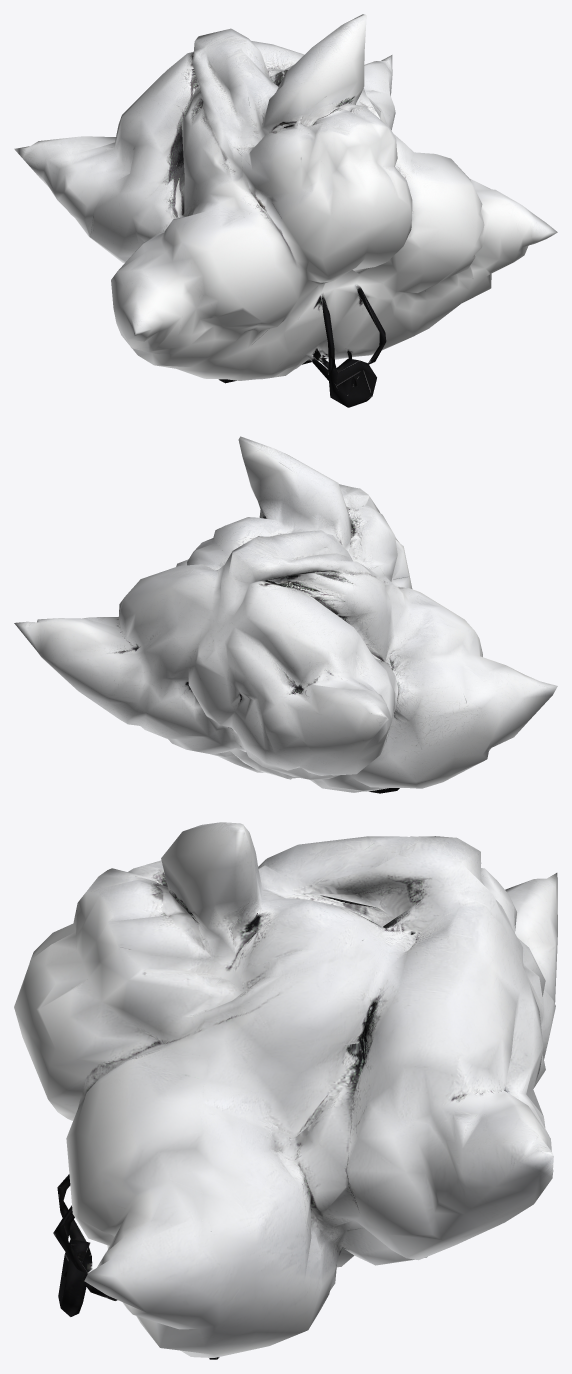
The model's file is Eperiment58_old.glb.
3 renders of one model, top to bottom at view 1: azimuth 30°, elevation 25°; view 2: azimuth 150°, elevation 25°; view 3: azimuth 270°, elevation 25°, orthographic. The views are drawn at different scales.
Parts seen in each view (by area): view 1: Mesh_0; view 2: Mesh_0; view 3: Mesh_0.
Part boxes in pixels (bbox=[...]): Mesh_0: bbox=[14, 14, 557, 407]; Mesh_0: bbox=[14, 436, 557, 793]; Mesh_0: bbox=[14, 822, 557, 1359].
Size of the model in its own units: 1.89 by 1.47 by 1.36.
Materials: 1 (1 with a texture image).
